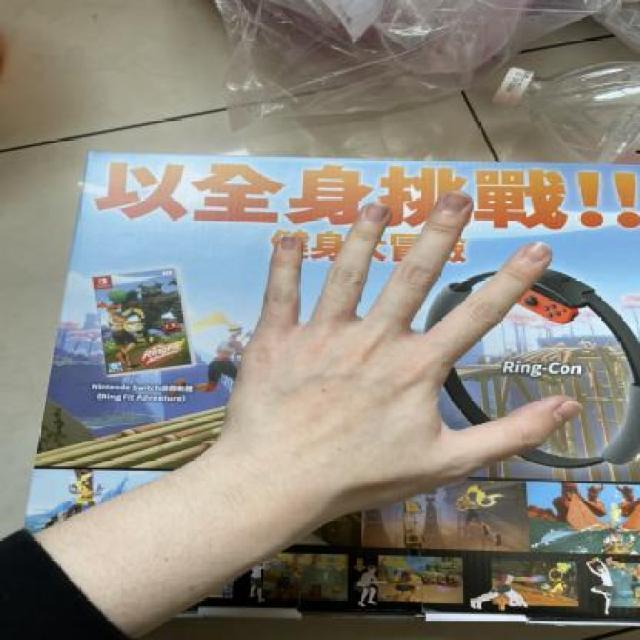hand: (205, 174, 590, 528)
